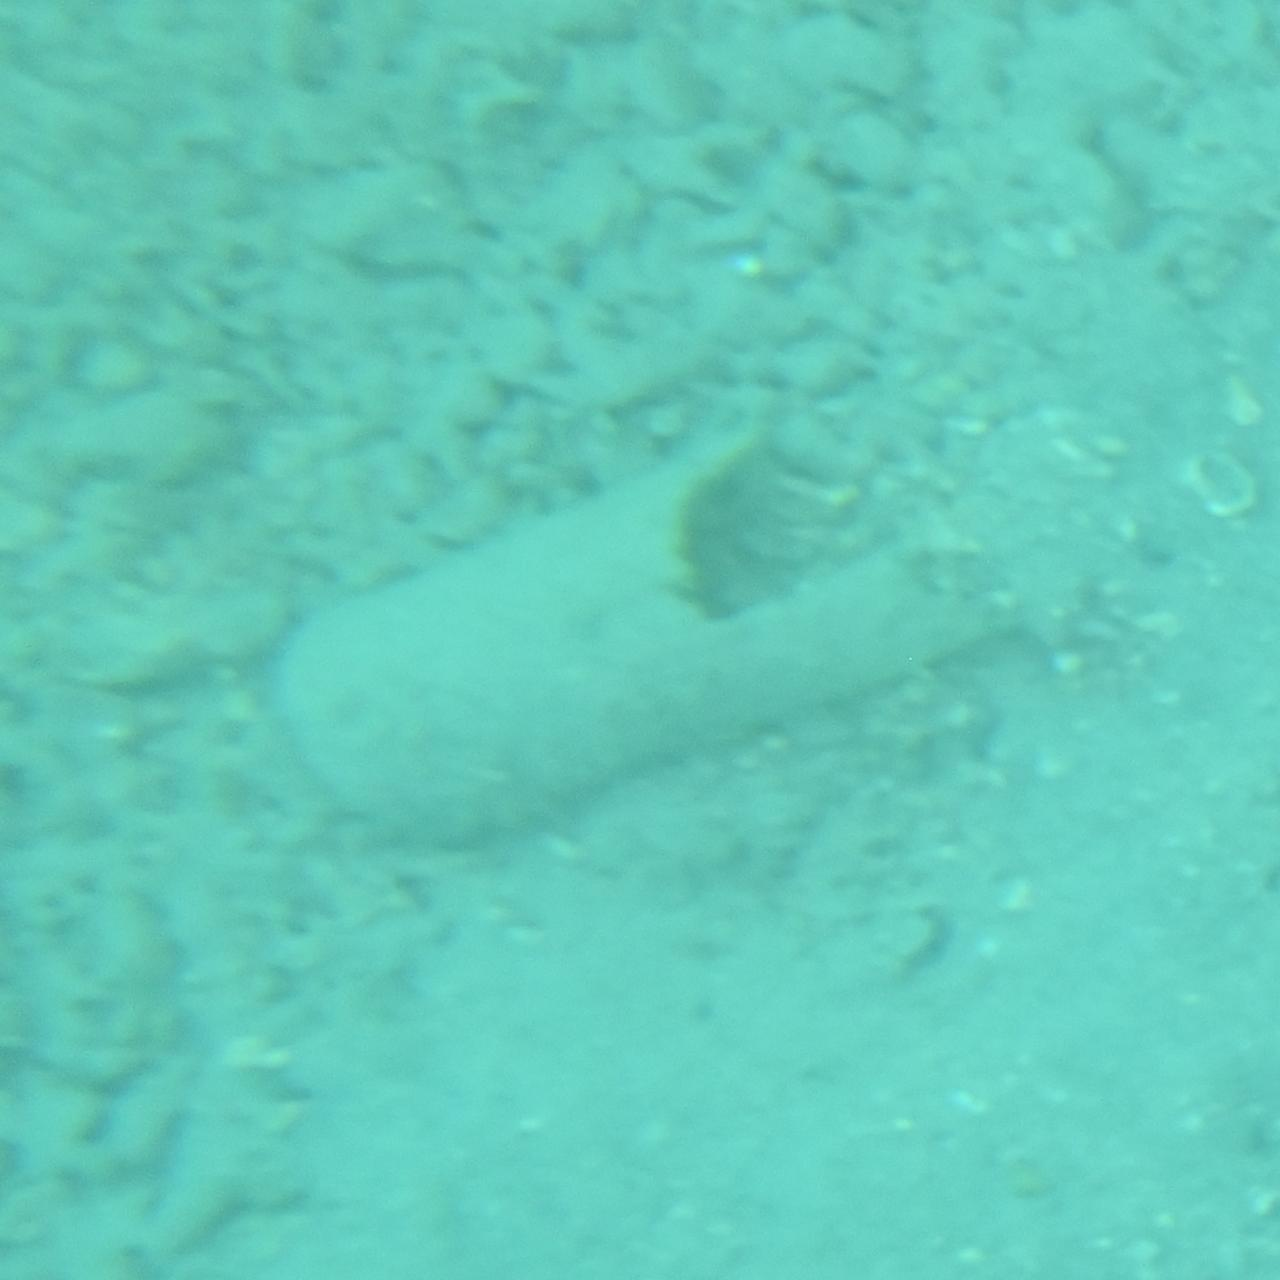Rifiuto: (272, 416, 1008, 864)
